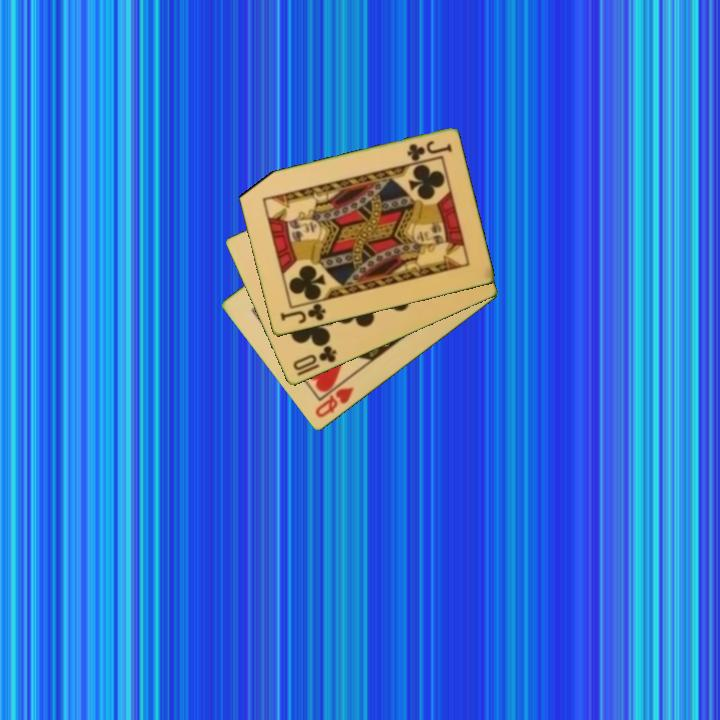10c: (289, 342, 340, 374)
Jc: (276, 300, 328, 327), (403, 137, 455, 163)
Qh: (311, 383, 357, 421)
